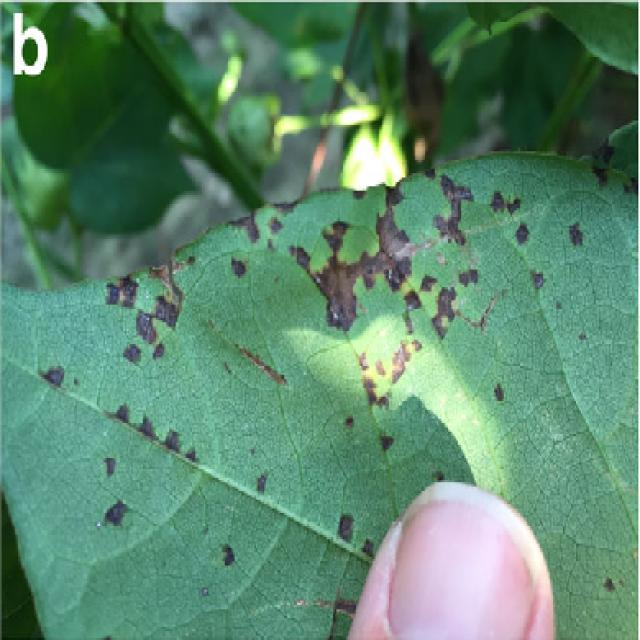Bacterial Blight: (96, 244, 517, 441)
